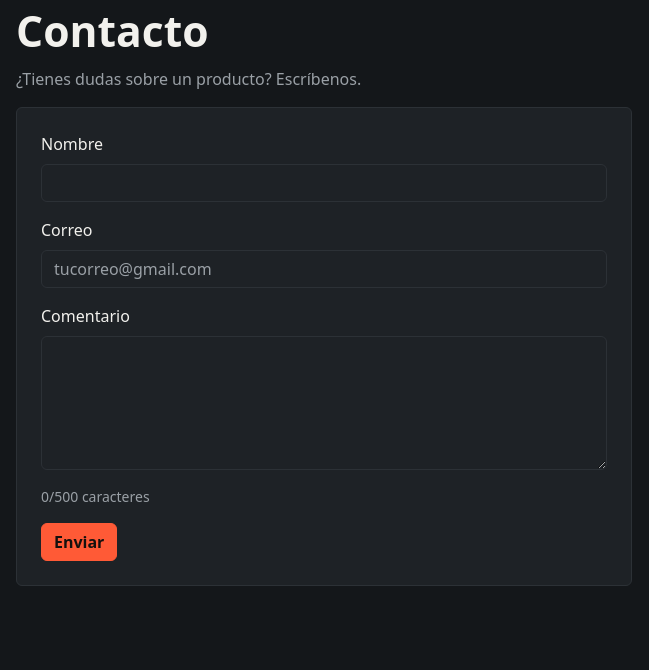
Test: Contacto › muestra los 3 errores si se envia vacio
Click the button "Enviar".
click(79, 542)  # box 41,523 -> 117,561
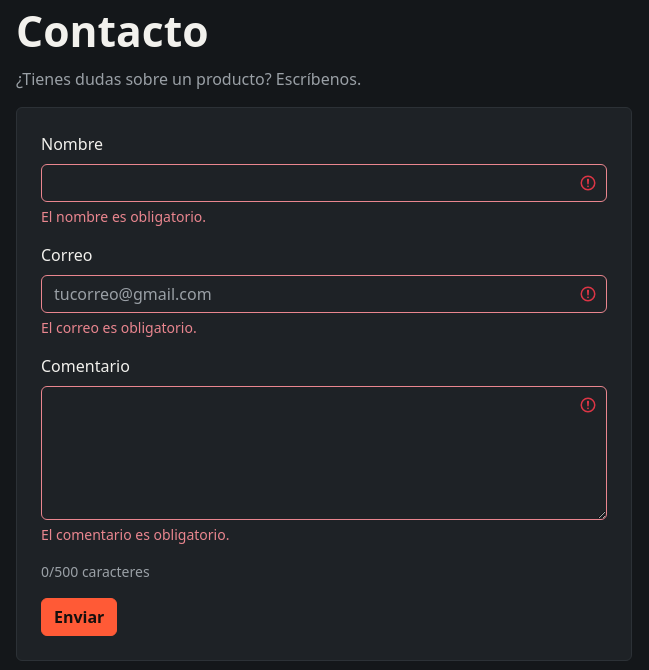
Expected: the text "El nombre es obligatorio." is shown, 41,207 -> 206,226
Expected: the text "El correo es obligatorio." is shown, 41,318 -> 197,337
Expected: the text "El comentario es obligatorio." is shown, 41,525 -> 229,544
